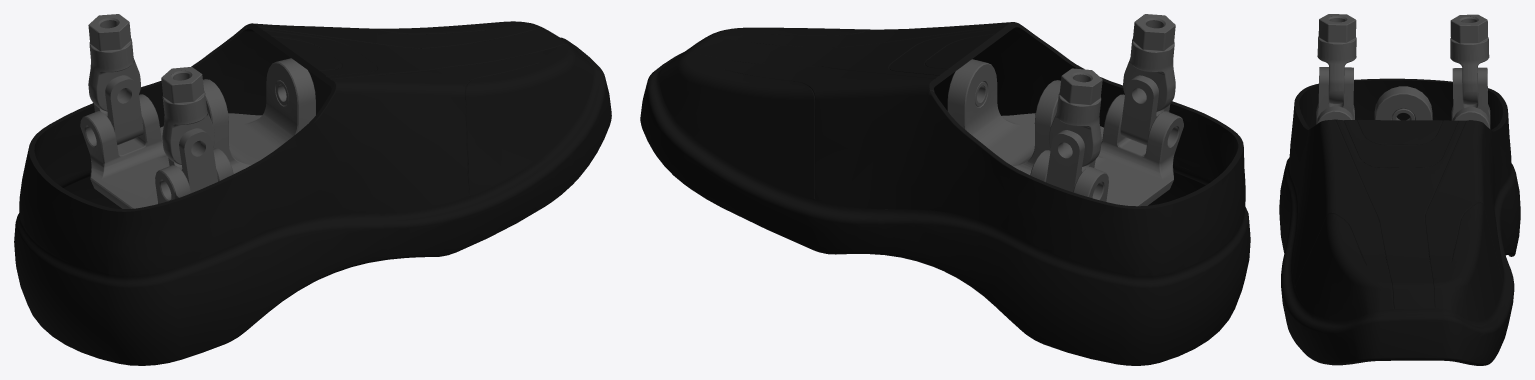
Rendered from link_right_ankle_x.glb.
3 views of the same model, side by side, from view 1: azimuth 30°, elevation 25°; view 2: azimuth 150°, elevation 25°; view 3: azimuth 270°, elevation 25° (orthographic). The views are drawn at different scales.
Parts seen in each view (by area): view 1: link_right_ankle_x; view 2: link_right_ankle_x; view 3: link_right_ankle_x.
Boxes of the visible parts, x1,y1,x2,y2 form: link_right_ankle_x: (14,14,611,365); link_right_ankle_x: (640,14,1250,365); link_right_ankle_x: (1279,14,1520,365).
Bounding box in the file's own units: 0.3001 × 0.1391 × 0.125.
Materials: 1 (1 with a texture image).
